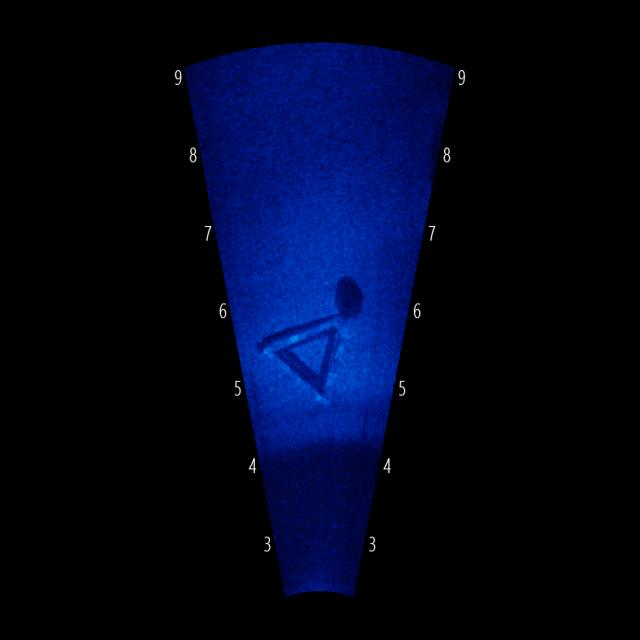triangle: (256, 300, 359, 406)
